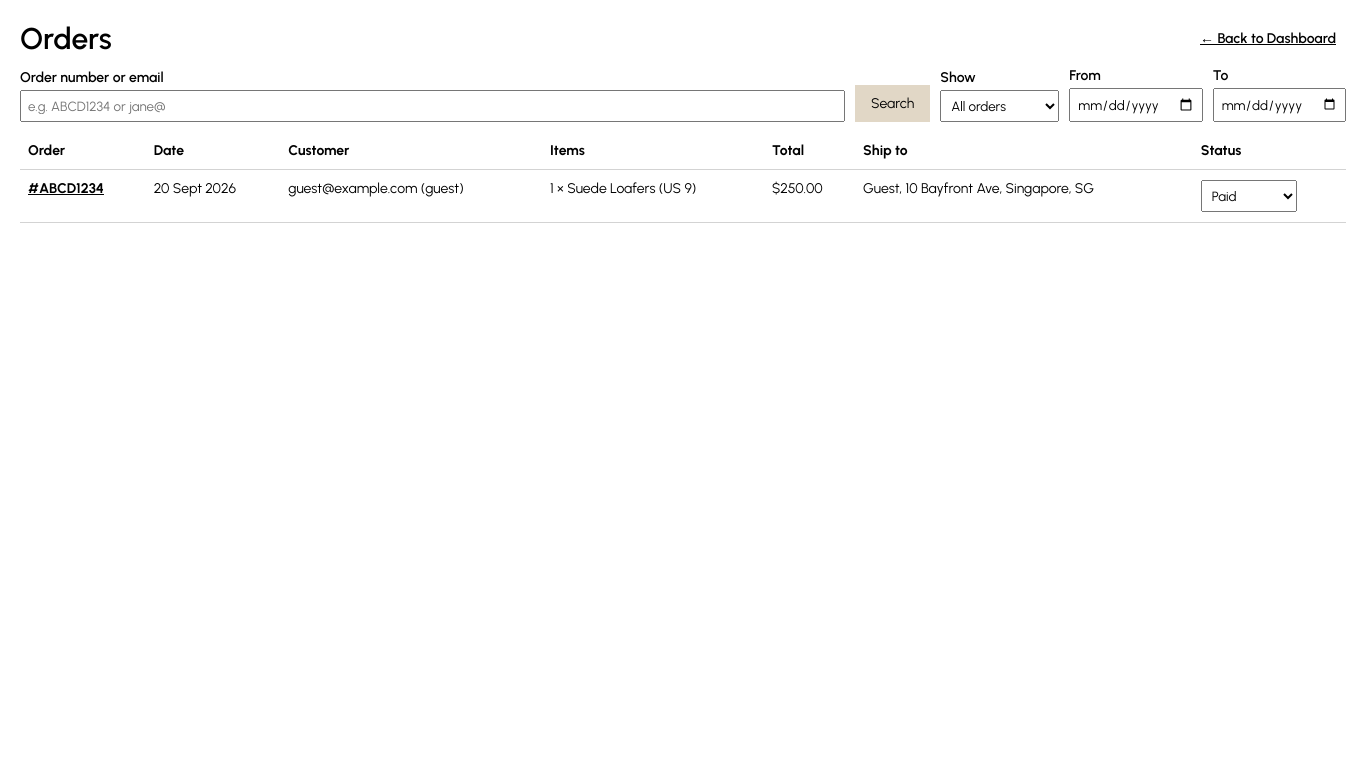
Test: AdminOrders › shipping › keeps the pop-up open with the server's message if it fails
Select "Shipped" in the dropdown named "Status for order ABCD1234" at (1249, 196), box [1201,180,1297,212]
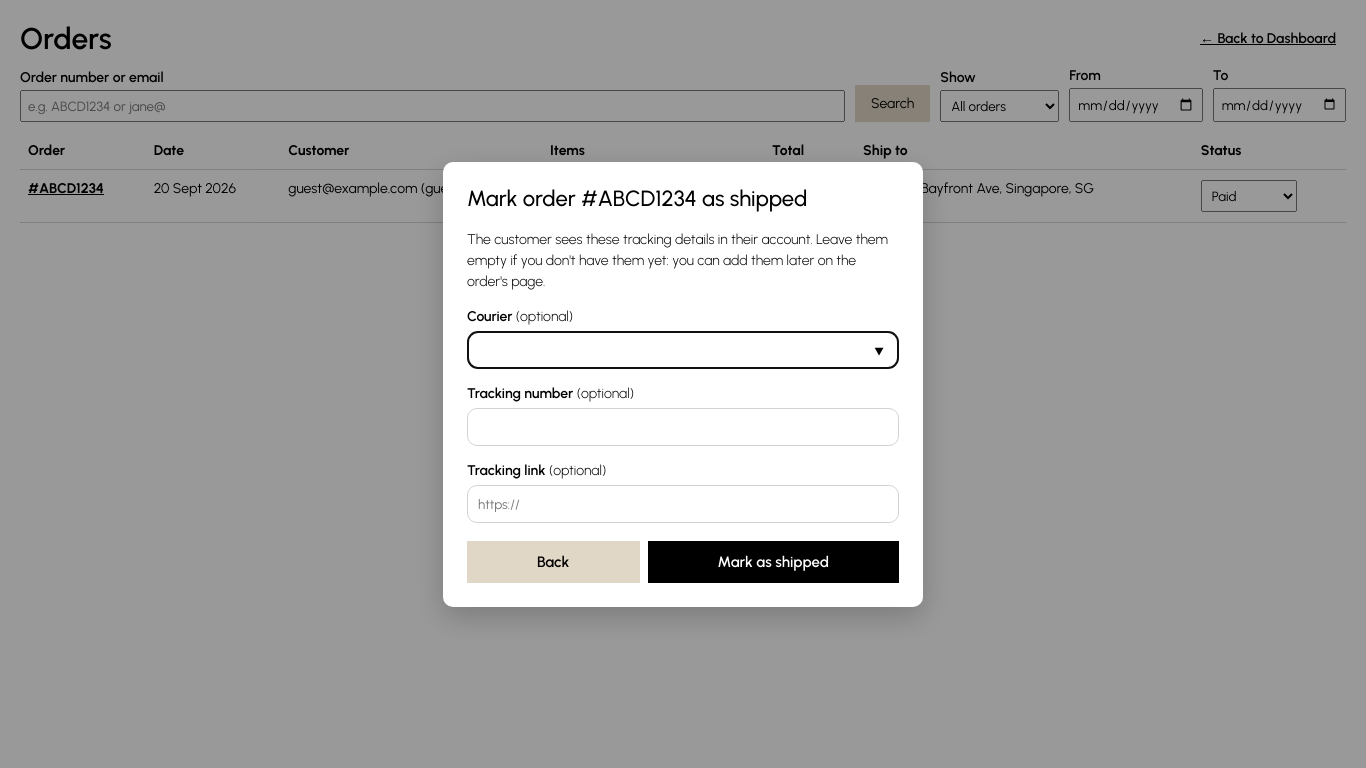
Click the button "Mark as shipped".
click(773, 562)  # box [648,540,899,582]
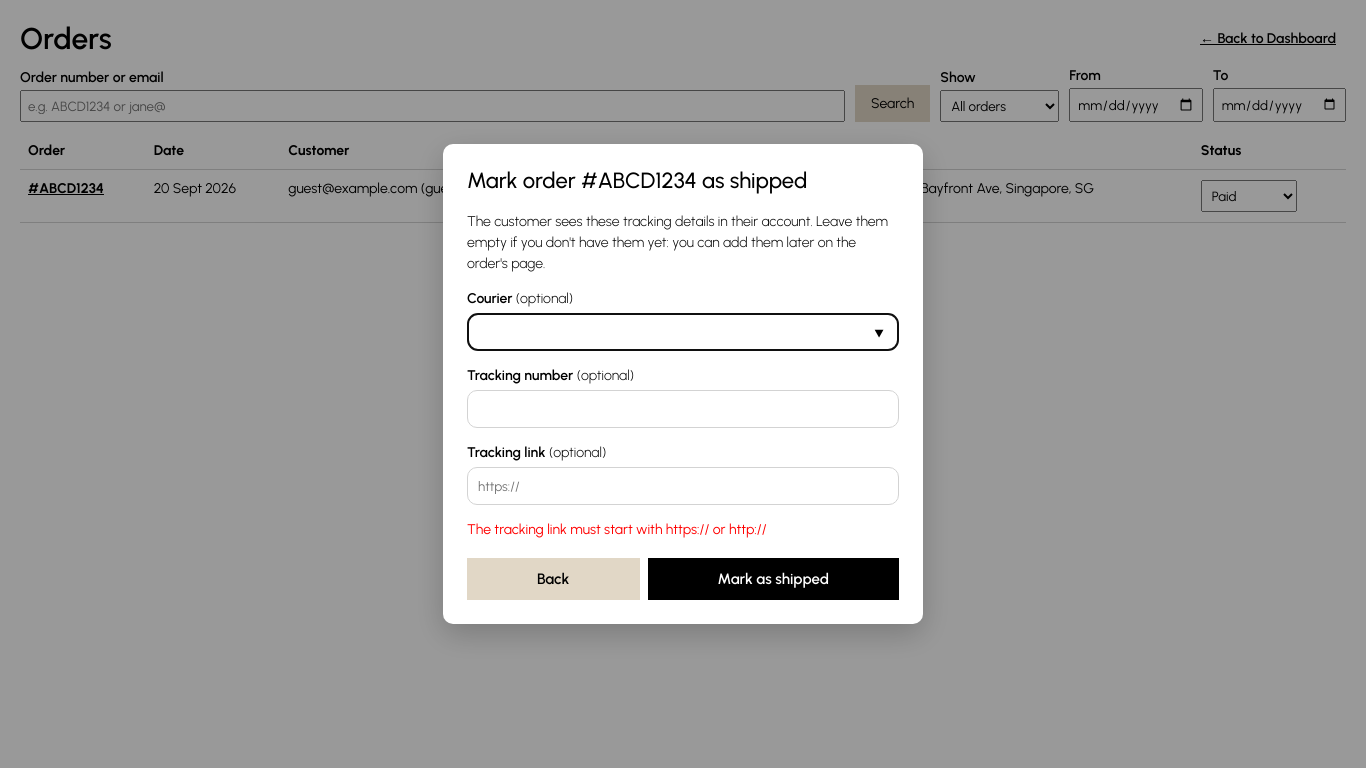
Expected: the dialog is shown, [443,144,923,624]
Expected: the message shows "must start with https://", [467,521,767,538]
